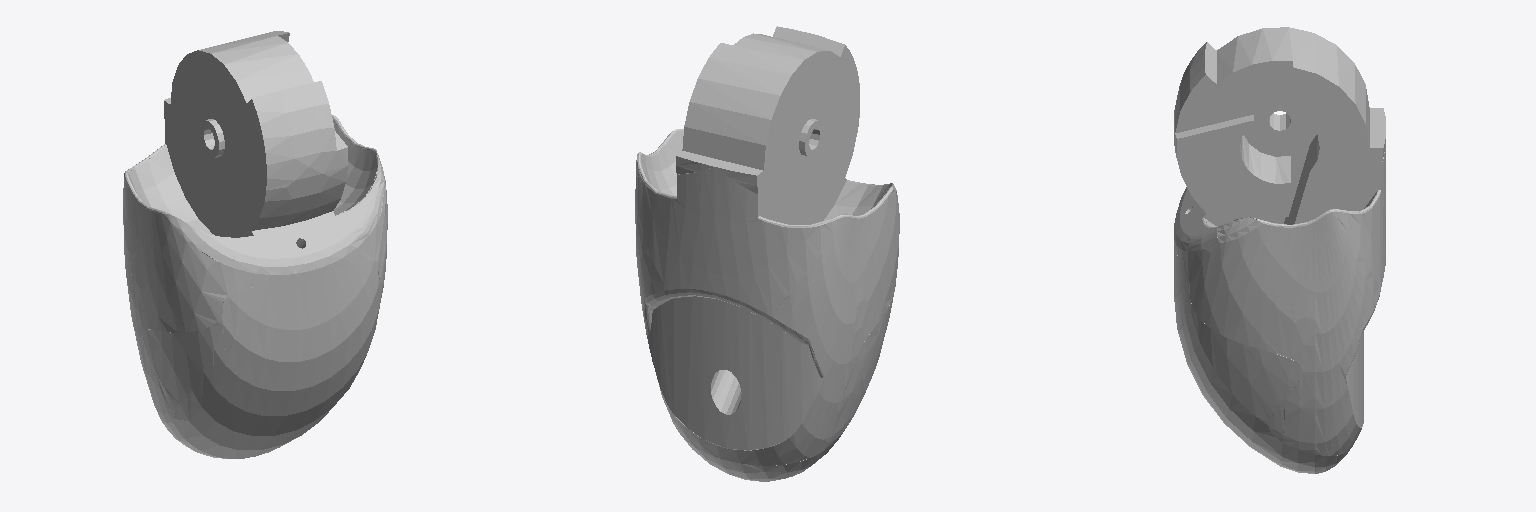
The model's file is armar-7_thumb_distal.obj.
The picture shows the model from 3 angles: view 1: azimuth 30°, elevation 25°; view 2: azimuth 150°, elevation 25°; view 3: azimuth 270°, elevation 25°; orthographic projection.
Bounding box in the file's own units: 0.0227 × 0.0412 × 0.019.